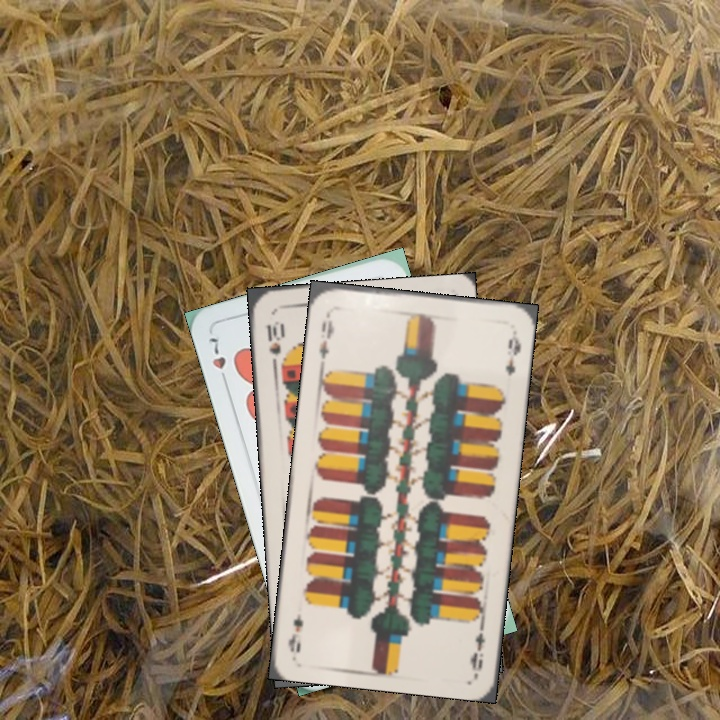E9: (466, 615, 488, 674), (314, 307, 337, 361)
H7: (204, 331, 230, 388)
S10: (263, 317, 284, 371)
